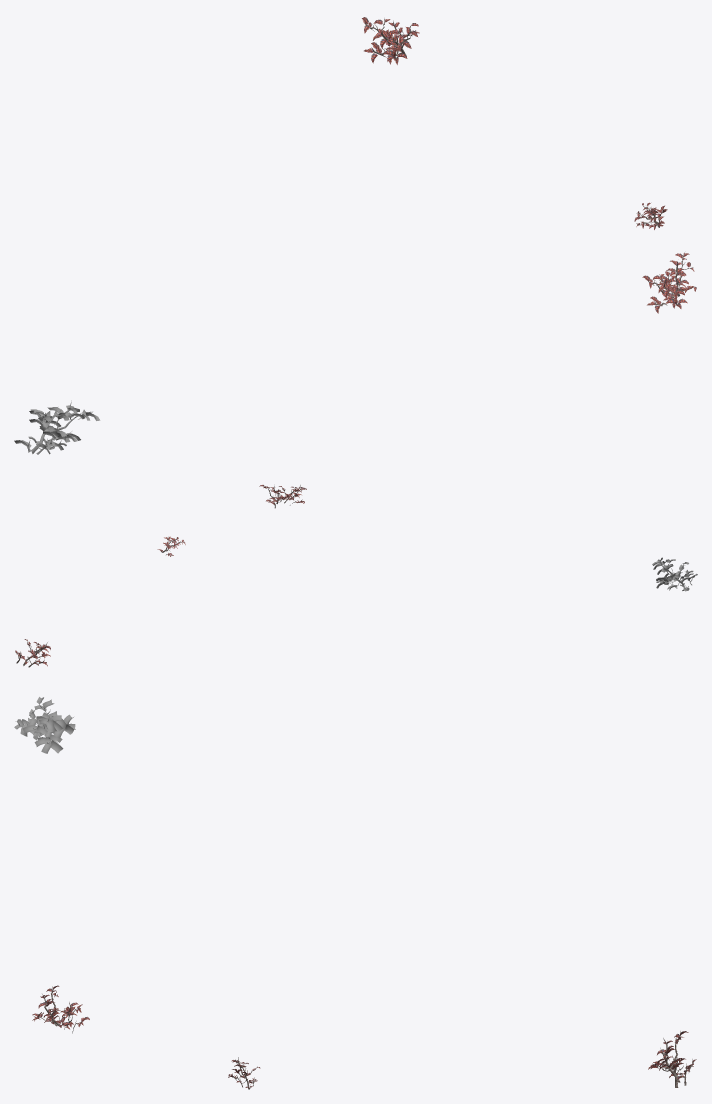
File: S_Tree_Red009_A.FBX
3 views of the same model, one above another, from view 1: azimuth 30°, elevation 25°; view 2: azimuth 150°, elevation 25°; view 3: azimuth 270°, elevation 25° (orthographic). The views are drawn at different scales.
Parts seen in each view (by area): view 1: S_Tree_Red009_002, S_Tree_Red009_005, S_Tree_Red009_001; view 2: S_Tree_Red009_002, S_Tree_Red009_005; view 3: S_Tree_Red009_002, S_Tree_Red009_005.
Part boxes in pixels (left/top/right/bottom): S_Tree_Red009_002: left=14, top=400, right=100, bottom=454; S_Tree_Red009_005: left=362, top=17, right=419, bottom=64; S_Tree_Red009_001: left=642, top=273, right=688, bottom=313; S_Tree_Red009_002: left=652, top=557, right=697, bottom=591; S_Tree_Red009_005: left=15, top=639, right=50, bottom=667; S_Tree_Red009_002: left=14, top=697, right=75, bottom=753; S_Tree_Red009_005: left=648, top=1031, right=696, bottom=1087.
Size of the model in its own units: 8999 by 7857 by 958.
